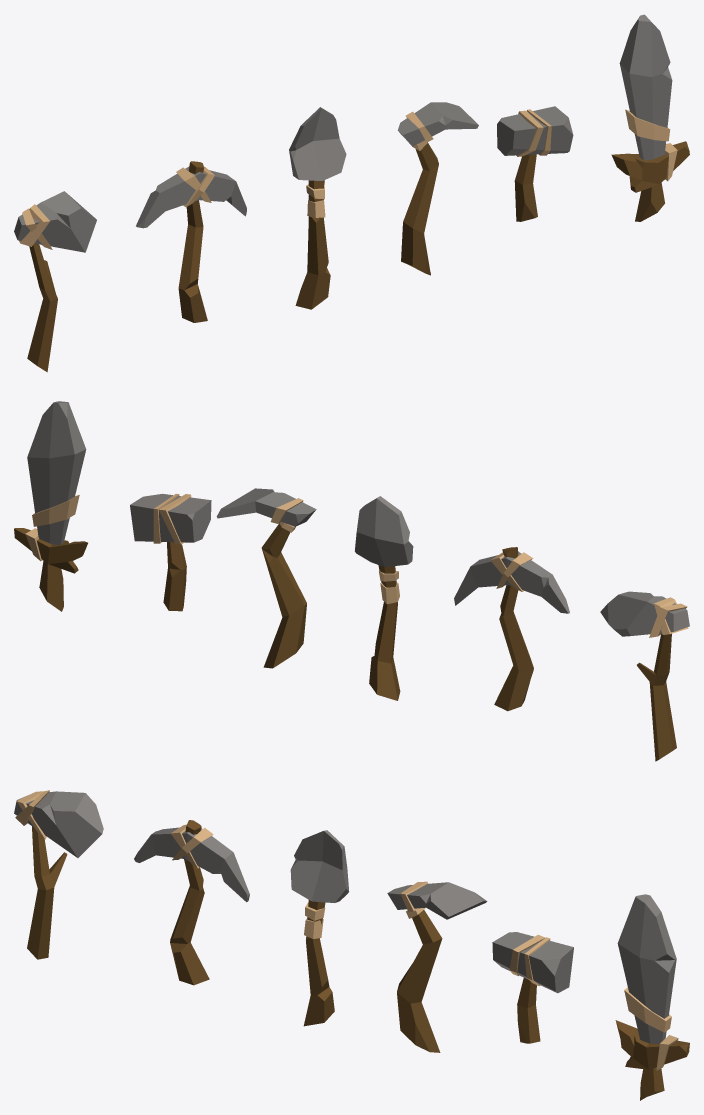
File: tool.glb
The picture shows the model from 3 angles, top to bottom: view 1: azimuth 30°, elevation 25°; view 2: azimuth 150°, elevation 25°; view 3: azimuth 330°, elevation 25°; orthographic projection.
Visible parts, largest first — view 1: Stone_Sword, Stone_Shovel, Stone_Pickaxe, Stone_Axe, Stone_Hoe, Stone_Hammer; view 2: Stone_Sword, Stone_Pickaxe, Stone_Shovel, Stone_Hoe, Stone_Axe, Stone_Hammer; view 3: Stone_Sword, Stone_Axe, Stone_Pickaxe, Stone_Hoe, Stone_Shovel, Stone_Hammer.
Part boxes in pixels (<box>): Stone_Sword: <box>611,14,689,221</box>; Stone_Shovel: <box>289,107,346,309</box>; Stone_Pickaxe: <box>136,161,246,322</box>; Stone_Axe: <box>14,191,96,372</box>; Stone_Hoe: <box>397,102,478,275</box>; Stone_Hammer: <box>497,106,573,221</box>; Stone_Sword: <box>14,401,87,611</box>; Stone_Pickaxe: <box>454,547,569,711</box>; Stone_Shovel: <box>355,496,413,700</box>; Stone_Hoe: <box>216,488,316,668</box>; Stone_Axe: <box>600,591,689,761</box>; Stone_Hammer: <box>130,493,211,611</box>; Stone_Sword: <box>615,894,689,1100</box>; Stone_Axe: <box>14,790,103,959</box>; Stone_Pickaxe: <box>134,820,249,985</box>; Stone_Hoe: <box>387,881,487,1052</box>; Stone_Shovel: <box>290,830,349,1026</box>; Stone_Hammer: <box>492,932,573,1043</box>.
Bounding box in the file's own units: 9.43 × 2.82 × 0.7801.
Materials: 1 (1 with a texture image).
